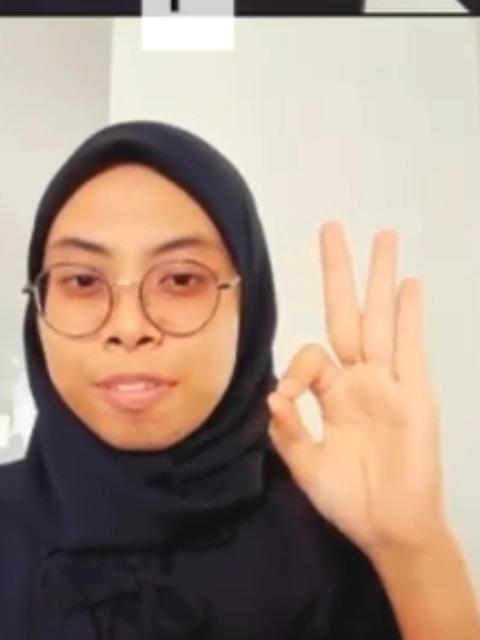F: (258, 224, 454, 546)
